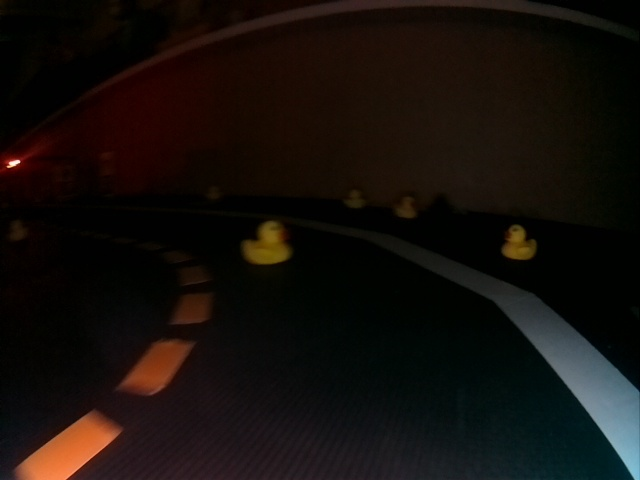Duckie: (242, 221, 289, 266), (503, 225, 536, 260), (396, 197, 417, 219), (345, 189, 364, 208), (8, 220, 25, 240), (208, 186, 220, 198)
